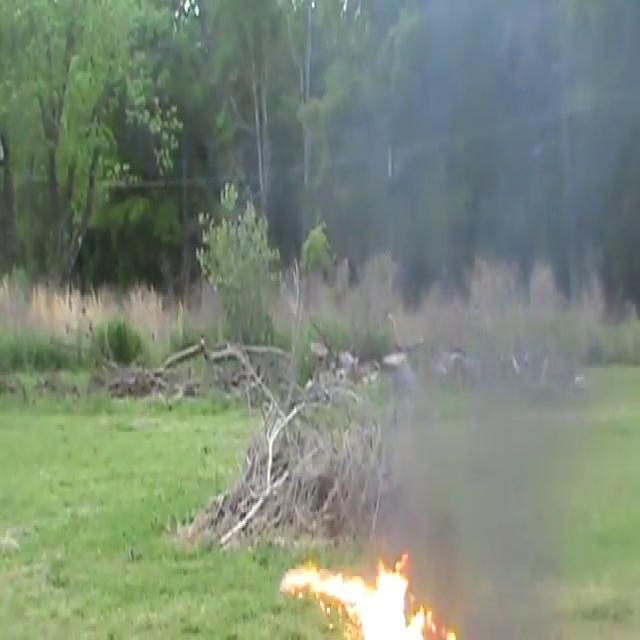Fire: (285, 544, 450, 636)
Smoke: (296, 1, 638, 393)
